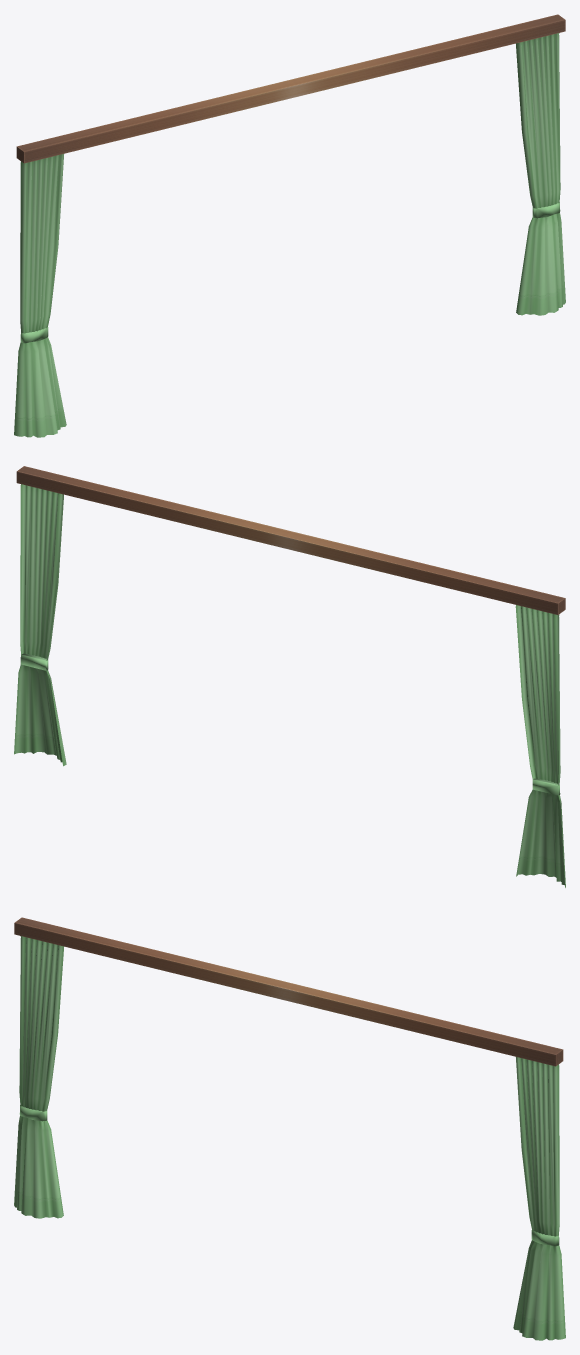
Rendered from Curtain_01_02.fbx.
3 views of the same model, one above another, from view 1: azimuth 30°, elevation 25°; view 2: azimuth 150°, elevation 25°; view 3: azimuth 330°, elevation 25° (orthographic).
Parts seen in each view (by area): view 1: curtain_L, curtain_R, curtain_rail; view 2: curtain_rail, curtain_R, curtain_L; view 3: curtain_R, curtain_L, curtain_rail.
Boxes of the visible parts, x1=… form: curtain_L: x1=14, y1=154, x2=66, y2=437; curtain_R: x1=516, y1=33, x2=565, y2=315; curtain_rail: x1=16, y1=14, x2=565, y2=163; curtain_rail: x1=16, y1=466, x2=565, y2=614; curtain_R: x1=14, y1=484, x2=66, y2=766; curtain_L: x1=515, y1=605, x2=565, y2=887; curtain_R: x1=513, y1=1057, x2=565, y2=1340; curtain_L: x1=14, y1=936, x2=63, y2=1218; curtain_rail: x1=14, y1=917, x2=563, y2=1066.
Size of the model in its own units: 392 by 194 by 14.92.
